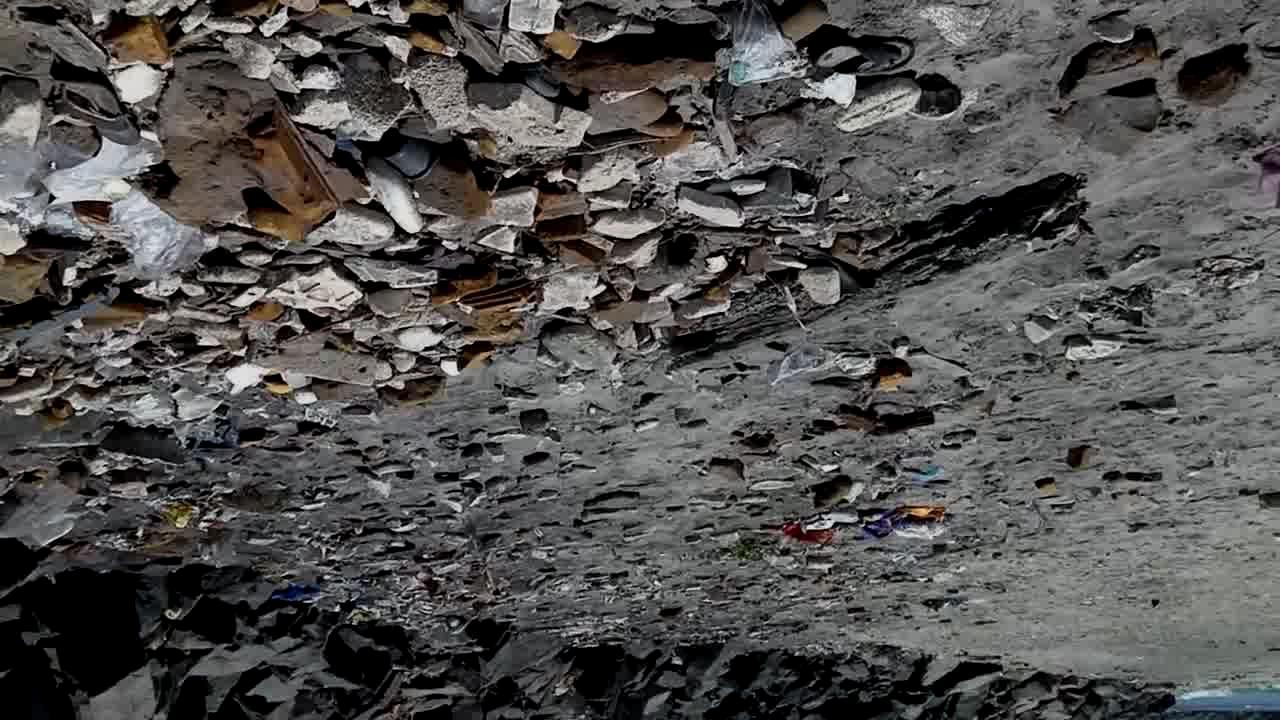large collection of objects: (160, 560, 206, 621)
obj: (646, 177, 1090, 381), (158, 50, 332, 241), (1050, 24, 1274, 158), (47, 141, 203, 276), (546, 30, 715, 91), (725, 1, 810, 86), (435, 271, 531, 345), (125, 393, 240, 451), (1, 478, 81, 550), (534, 190, 604, 266), (412, 154, 490, 221), (50, 84, 136, 144), (835, 402, 939, 441), (854, 502, 948, 544), (814, 38, 916, 76), (784, 507, 865, 552), (104, 14, 169, 65), (903, 70, 960, 122), (1193, 253, 1267, 288), (1, 256, 53, 304), (81, 304, 148, 332), (377, 377, 444, 404), (720, 535, 781, 562), (1065, 337, 1125, 362), (868, 356, 908, 390), (159, 499, 200, 528), (271, 582, 327, 602), (457, 350, 493, 376), (246, 303, 285, 324), (708, 457, 742, 478), (1069, 446, 1097, 469), (264, 382, 294, 396), (1036, 479, 1054, 495)
